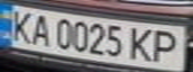0: (51, 16, 75, 51), (69, 18, 90, 53)
2: (87, 20, 109, 56)
5: (103, 22, 130, 60)
A: (24, 12, 54, 47)
K: (124, 25, 160, 62), (3, 7, 39, 44)
P: (148, 27, 187, 64)
